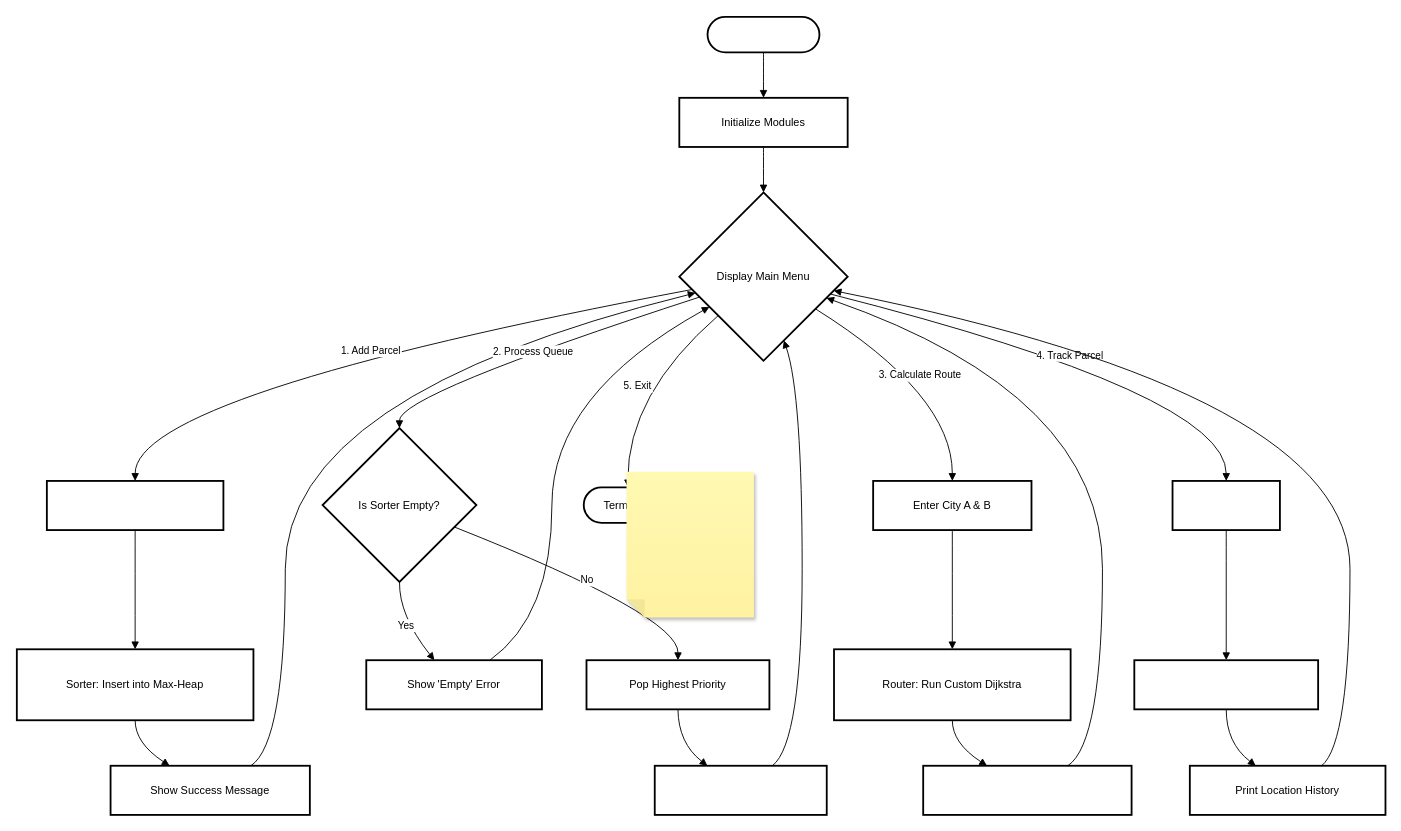
The diagram is 1401 pixels wide and 831 high, and some of its shapes have lost their labels. Here are the shapes that lost their labels. From the top down, the centre of each, then its label:
At (763,34): "Start Program".
At (135,505): "User inputs Details".
At (1225,505): "Enter ID".
At (1226,684): "Traverse Linked List".
At (740,789): "Add to Ops Queue".
At (1027,789): "Display Path & Distance".
